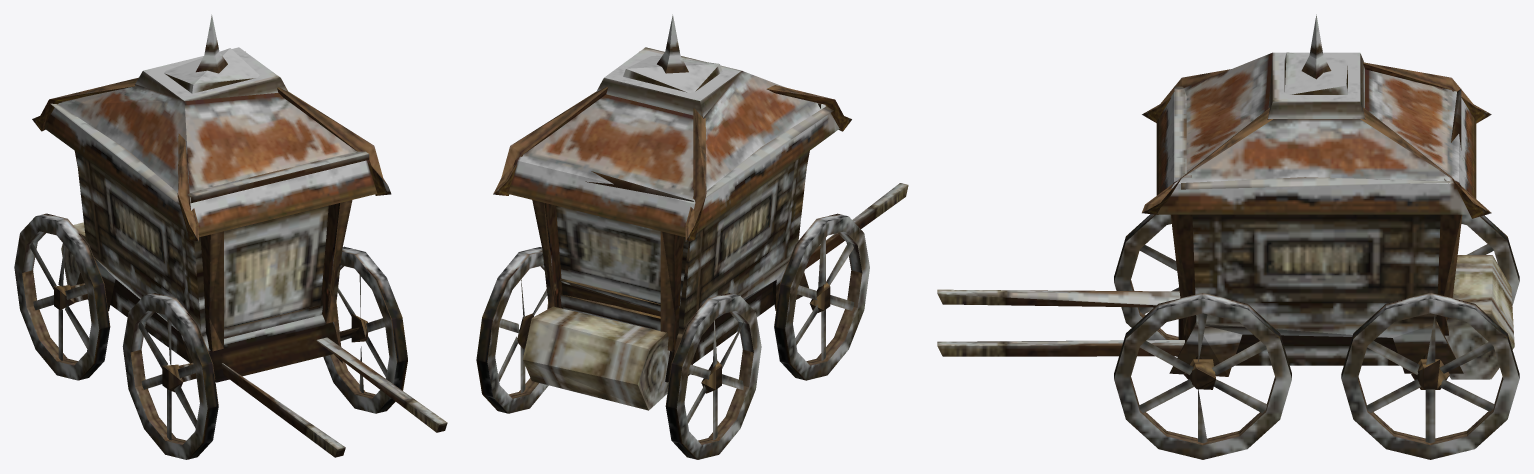
File: general_obj_carriage_lod_01.fbx
The picture shows the model from 3 angles, left to right: view 1: azimuth 30°, elevation 25°; view 2: azimuth 150°, elevation 25°; view 3: azimuth 270°, elevation 25°; orthographic projection. The views are drawn at different scales.
Visible parts, largest first — view 1: Object01; view 2: Object01; view 3: Object01.
Part boxes in pixels (<box>): Object01: <box>14,14,447,459</box>; Object01: <box>476,14,908,459</box>; Object01: <box>937,14,1519,459</box>.
Bounding box in the file's own units: 2.41 × 4.33 × 5.78.
